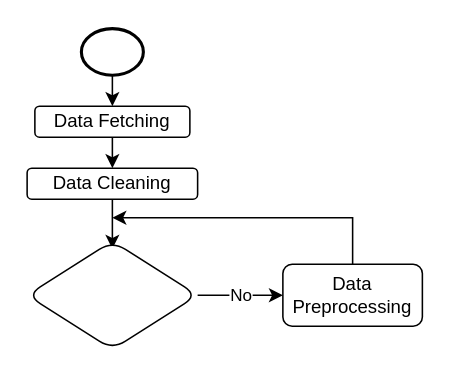
This 450x377 diagram has some shape labels left out. The shapes that lost their labels are listed below. From the top down, each one's box as (x1, y1, x2, y2) in pixels, then its label:
(79, 26, 144, 76): Start
(26, 239, 198, 350): Satisfy Assumption?
